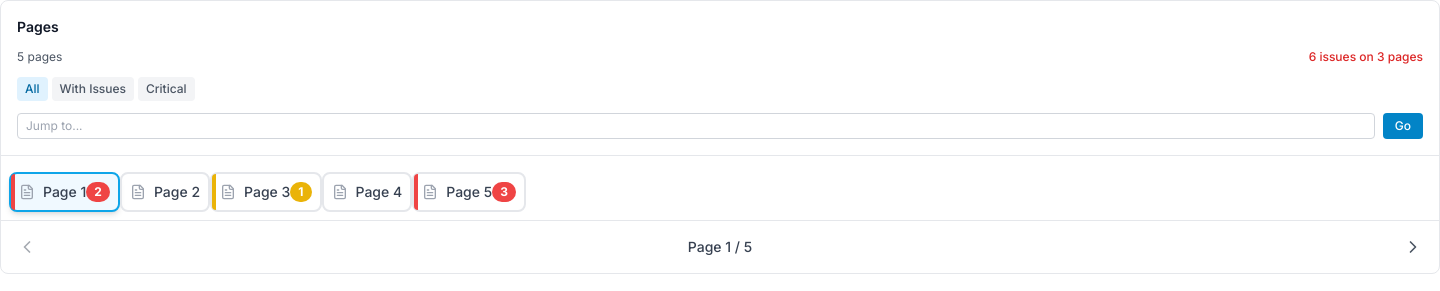
Test case: PdfPageNavigator › Filtering › filters to show only pages with issues
The width and height of the screenshot is (1440, 291).
Click the button "With Issues" at coordinates (93, 89), box [52,77,134,101]
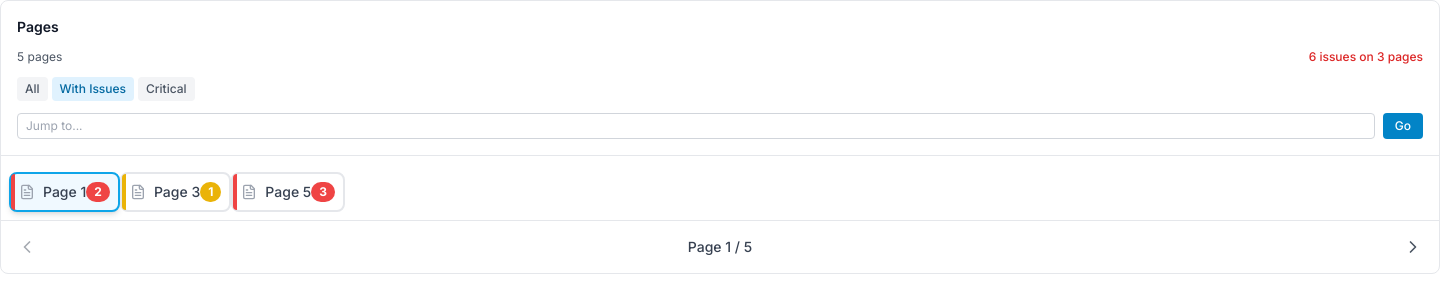
Check: the text "Page 1" is shown, box [43,182,86,202]
Check: the button "Page 2" is gone
Check: the button "Page 4" is gone
